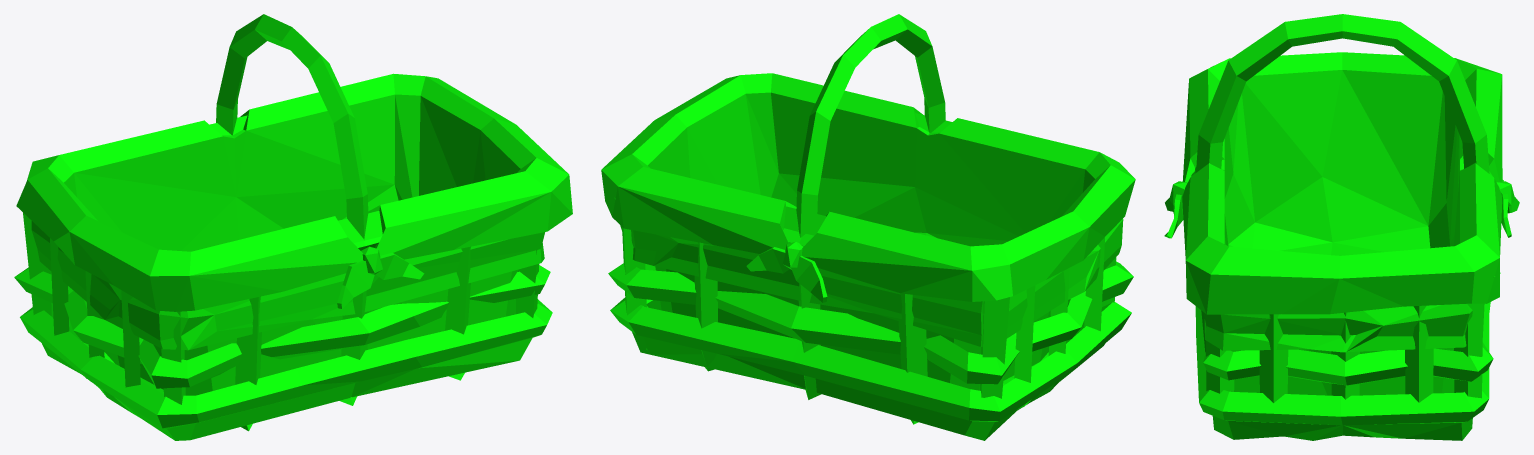
The model's file is SM_Basket_Fantasy_A_Cloth.fbx.
The picture shows the model from 3 angles, left to right: view 1: azimuth 30°, elevation 25°; view 2: azimuth 150°, elevation 25°; view 3: azimuth 270°, elevation 25°; orthographic projection. The views are drawn at different scales.
Visible parts, largest first — view 1: basket-fantasy-a-cloth; view 2: basket-fantasy-a-cloth; view 3: basket-fantasy-a-cloth.
Part boxes in pixels (x1=…): basket-fantasy-a-cloth: x1=14, y1=14, x2=572, y2=440; basket-fantasy-a-cloth: x1=601, y1=14, x2=1135, y2=440; basket-fantasy-a-cloth: x1=1164, y1=14, x2=1519, y2=440.
Bounding box in the file's own units: 0.5662 × 0.4076 × 0.3841.
